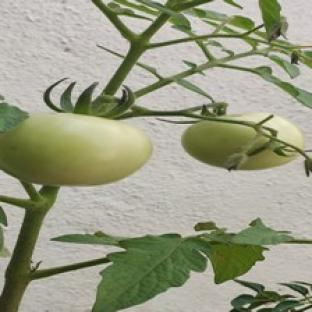Tomato: (0, 113, 151, 186), (182, 122, 268, 168)
